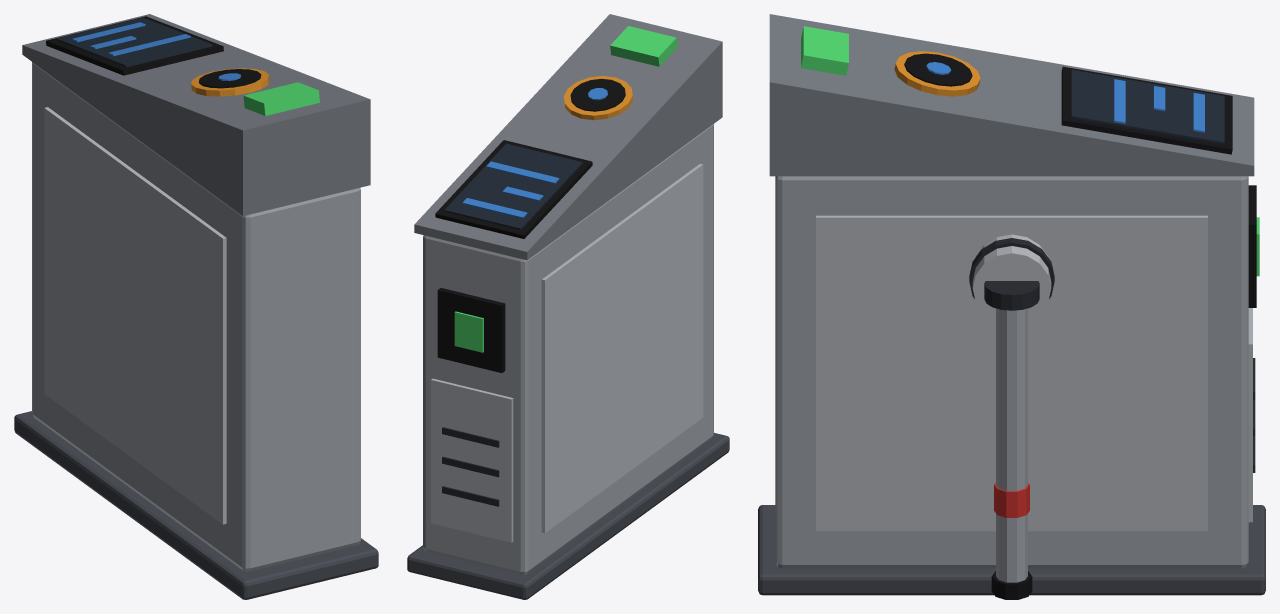
File: ticket_gate_on.obj
3 views of the same model, side by side, from view 1: azimuth 30°, elevation 25°; view 2: azimuth 150°, elevation 25°; view 3: azimuth 270°, elevation 25° (orthographic). The views are drawn at different scales.
Visible parts, largest first — view 1: ticket_gate_on; view 2: ticket_gate_on; view 3: ticket_gate_on.
Boxes of the visible parts, x1,y1,x2,y2 form: ticket_gate_on: (14, 14, 378, 599); ticket_gate_on: (407, 14, 729, 599); ticket_gate_on: (758, 14, 1265, 599).
Bounding box in the file's own units: 0.423 × 0.9942 × 0.88.
